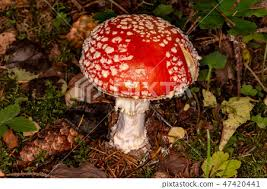Amanita muscaria: (78, 8, 203, 152)
